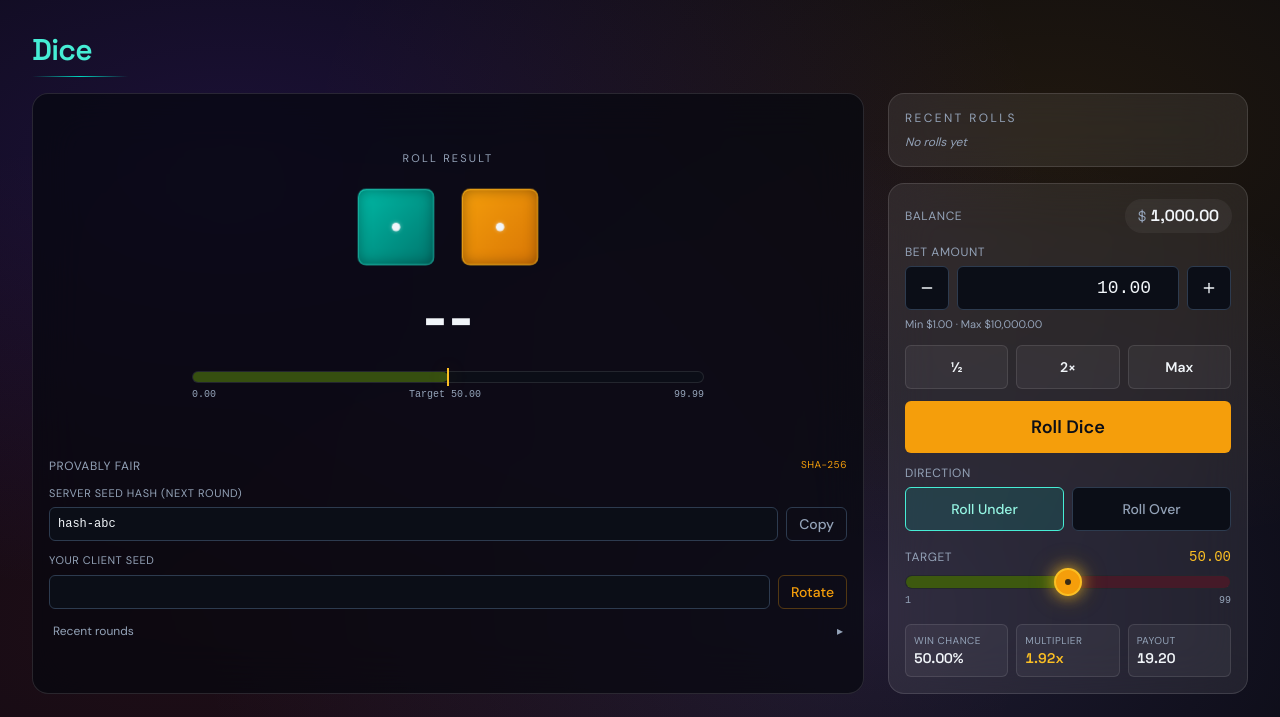
Scenario: DiceGame component › updates the displayed multiplier when target changes
The image size is (1280, 717).
Set the slider named "Target" to "10" at (1068, 591), box [905,574,1231,608]
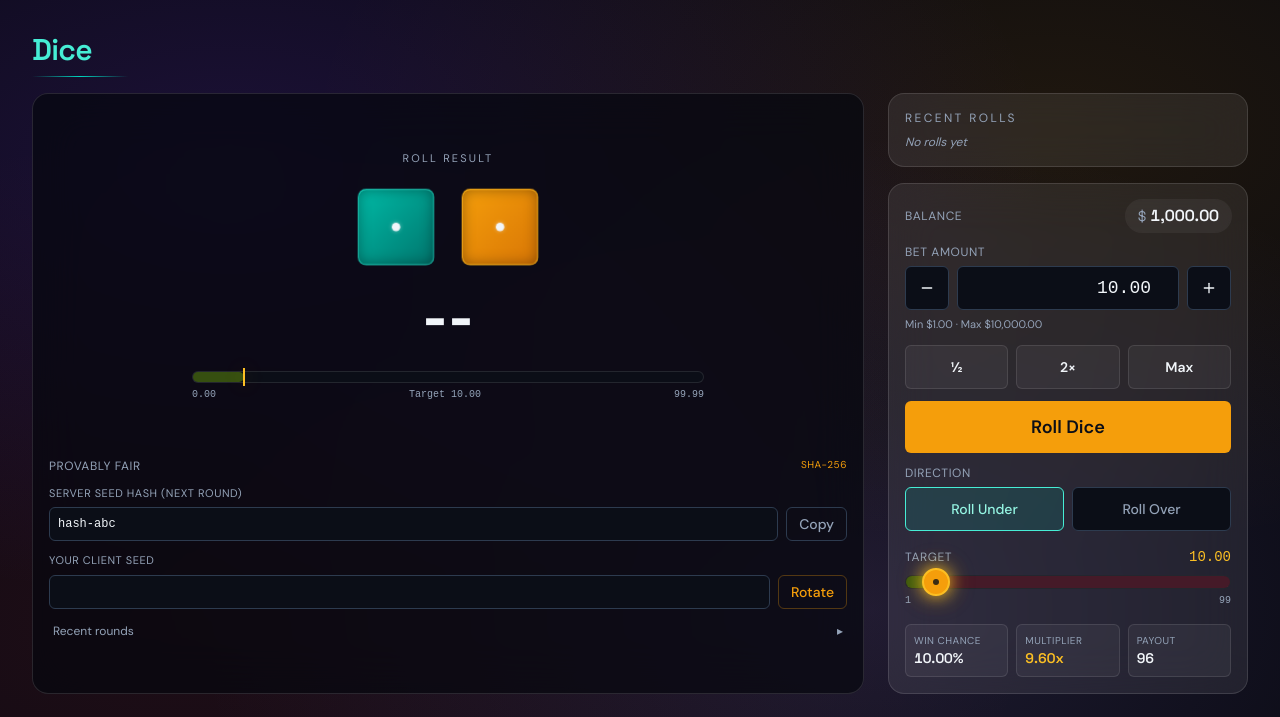
Now the text with test id "dice-multiplier" reads "9.60x", box [1025,648,1064,666]
Now the text with test id "dice-win-chance" reads "10.00%", box [914,648,963,666]
